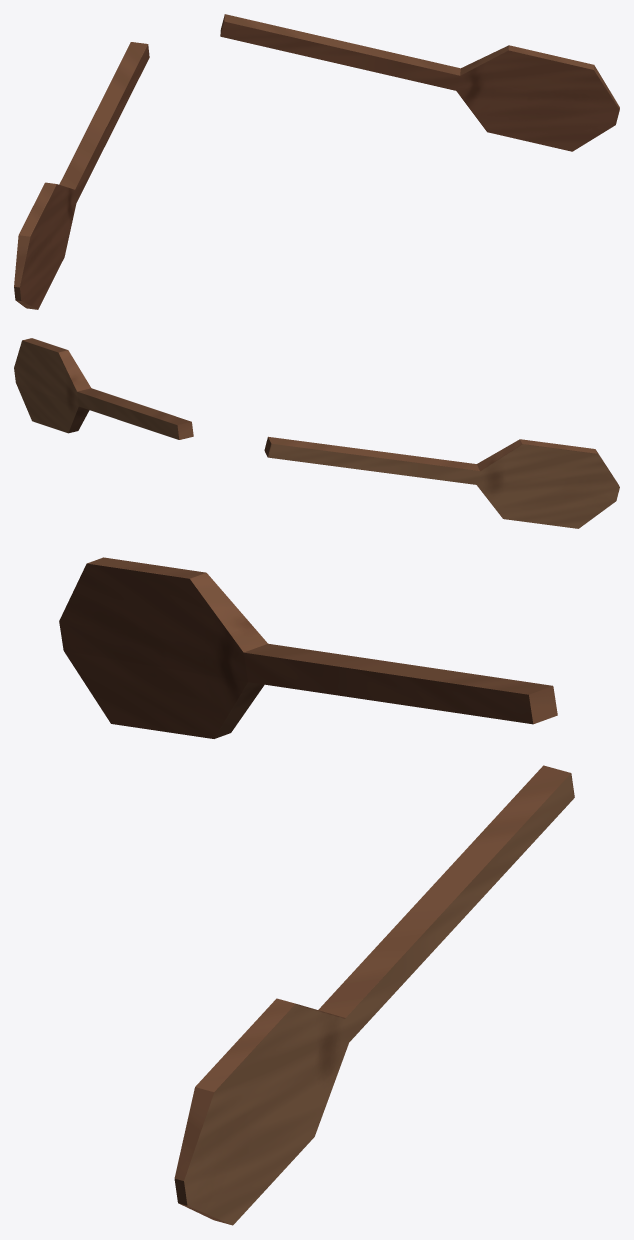
File: remos.fbx
3 views of the same model, one above another, from view 1: azimuth 30°, elevation 25°; view 2: azimuth 150°, elevation 25°; view 3: azimuth 270°, elevation 25° (orthographic). The views are drawn at different scales.
Visible parts, largest first — view 1: Cube.001; view 2: Cube.001; view 3: Cube.001.
Part boxes in pixels (x1,y1,x2,y2): Cube.001: (14, 14, 619, 309); Cube.001: (14, 338, 619, 528); Cube.001: (59, 557, 574, 1225).
Size of the model in its own units: 416 by 78.61 by 161.
Materials: 1 (1 with a texture image).
